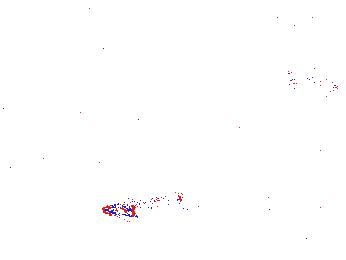X-ray fish: (88, 26, 112, 65)
glassfish: (102, 189, 182, 220), (252, 132, 309, 168)
red belly glassfish: (290, 75, 339, 94), (254, 18, 305, 35)
